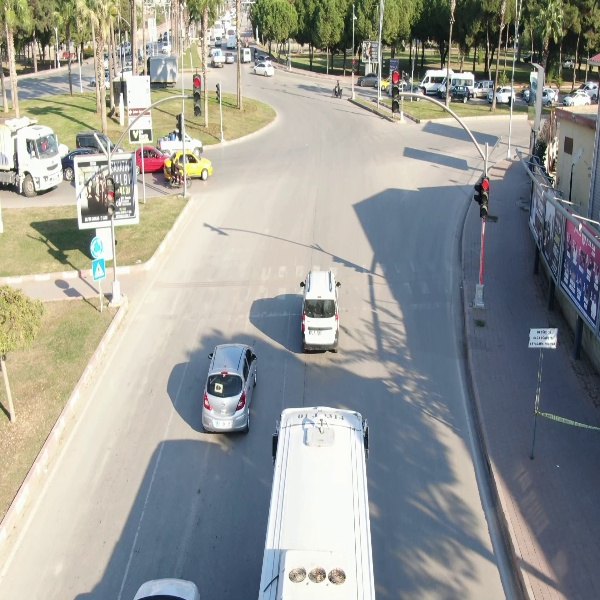car: (197, 341, 260, 434), (299, 269, 343, 353), (441, 82, 473, 105), (488, 84, 518, 103), (563, 90, 593, 108), (250, 61, 277, 79), (241, 45, 253, 66)
